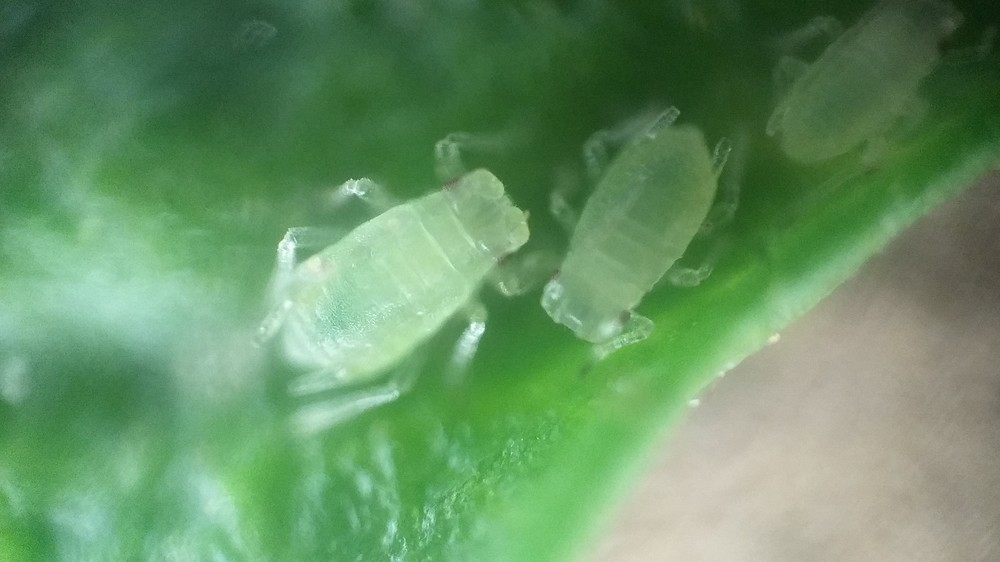Pulgon: (230, 119, 541, 441), (530, 87, 749, 385), (754, 1, 993, 196)
